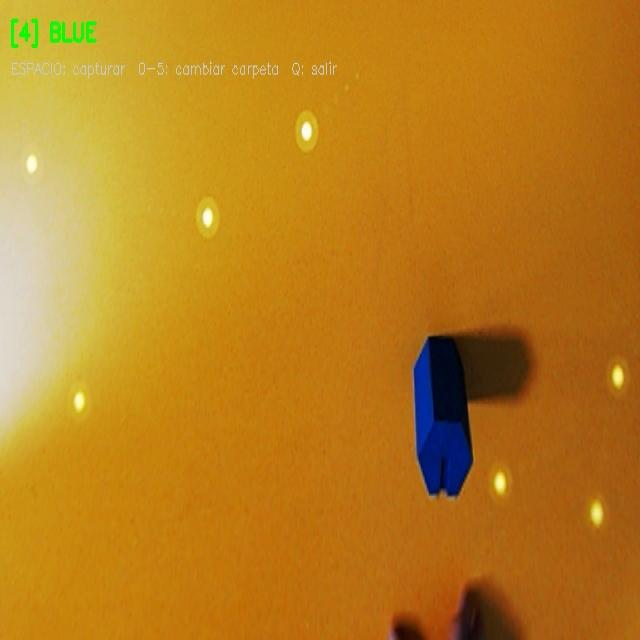blue: (413, 335, 473, 497)
